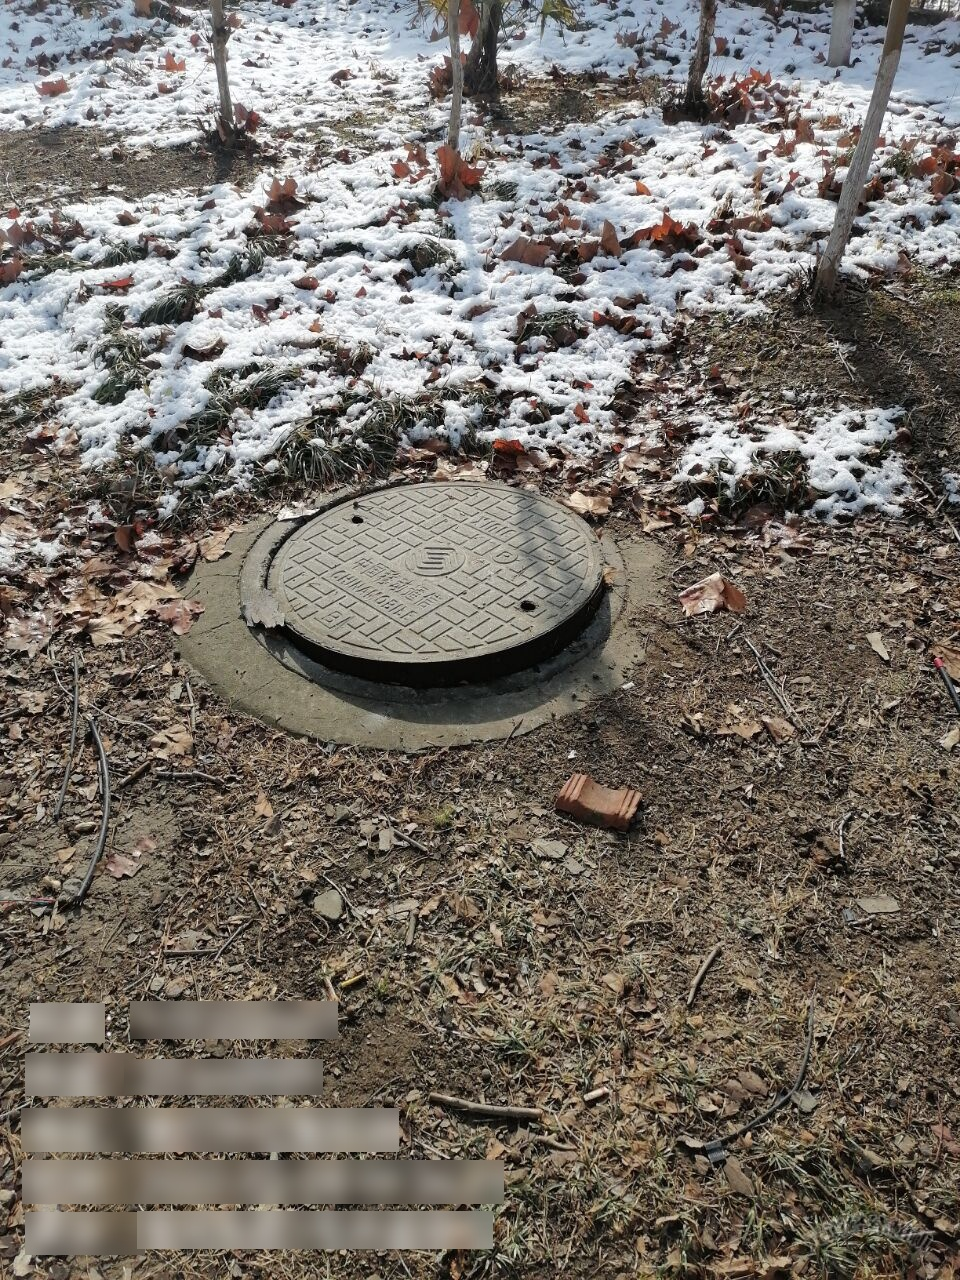well: (239, 473, 629, 720)
